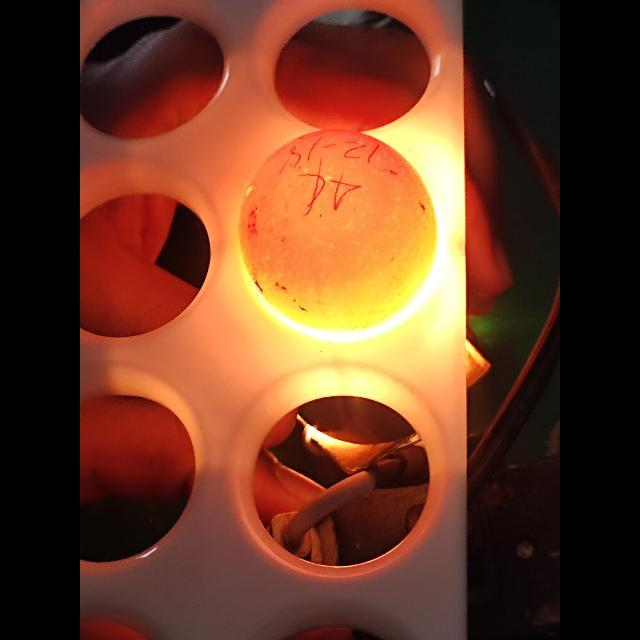Infertile: (235, 128, 440, 328)
